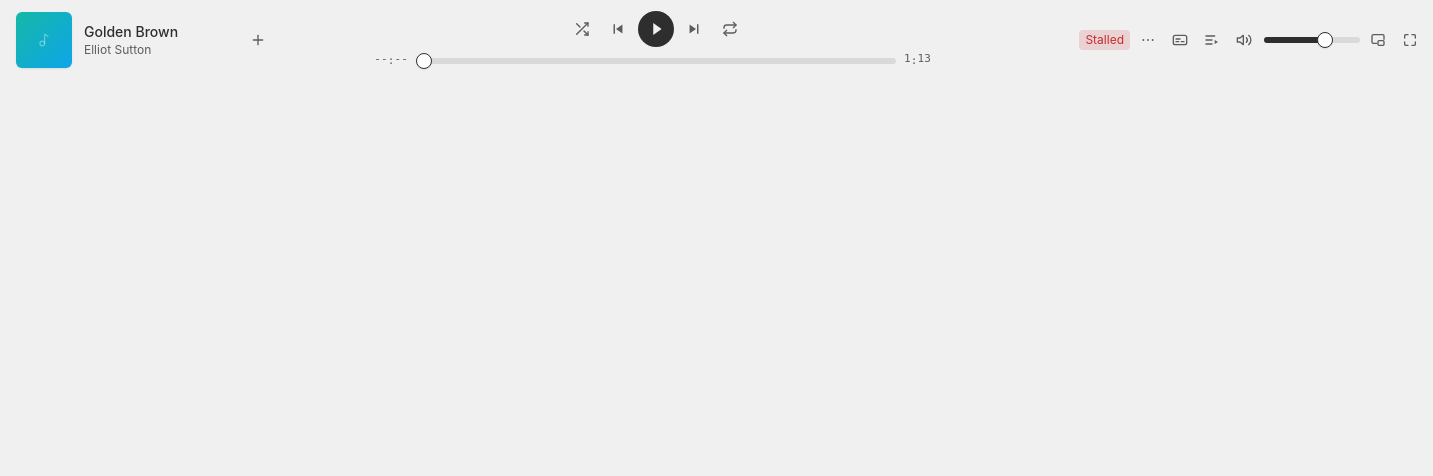
Test: the overflow menu › turns shuffle on by choosing how it should shuffle
Expected: the text "Golden Brown" is shown, [84, 23, 178, 40]
Click the button named "More player controls". click: [1148, 40]
box: [1134, 26, 1162, 54]
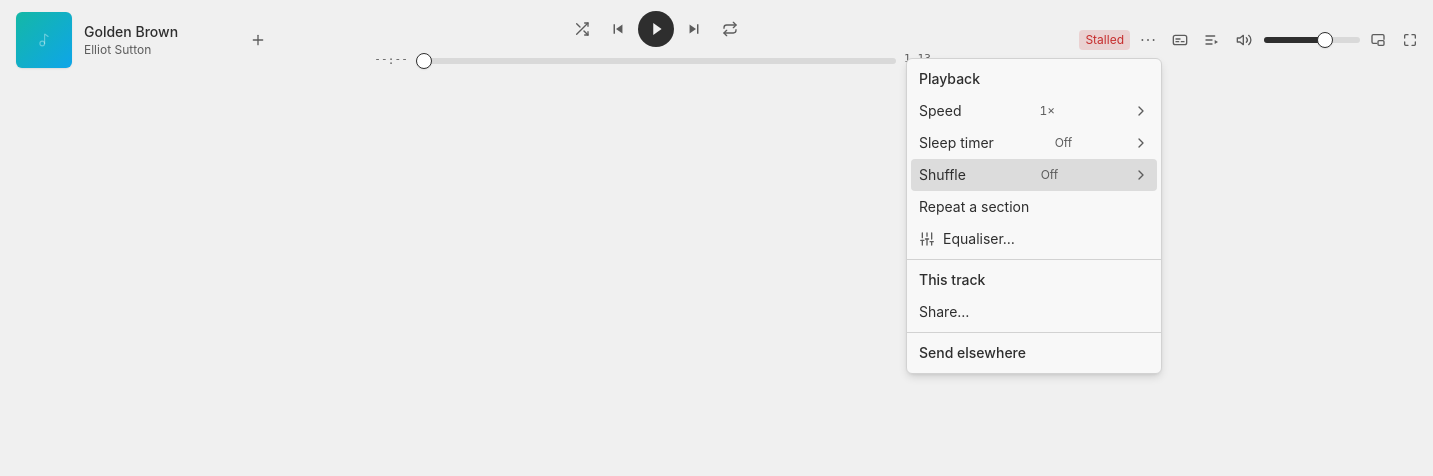
Press Arrowright
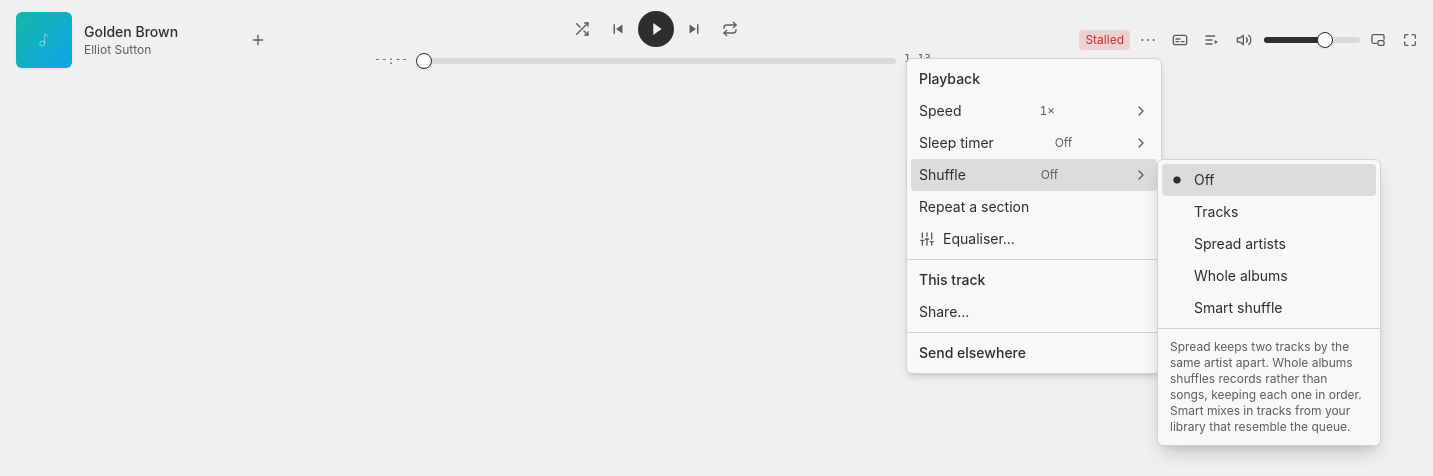
Press Arrowdown Arrowdown
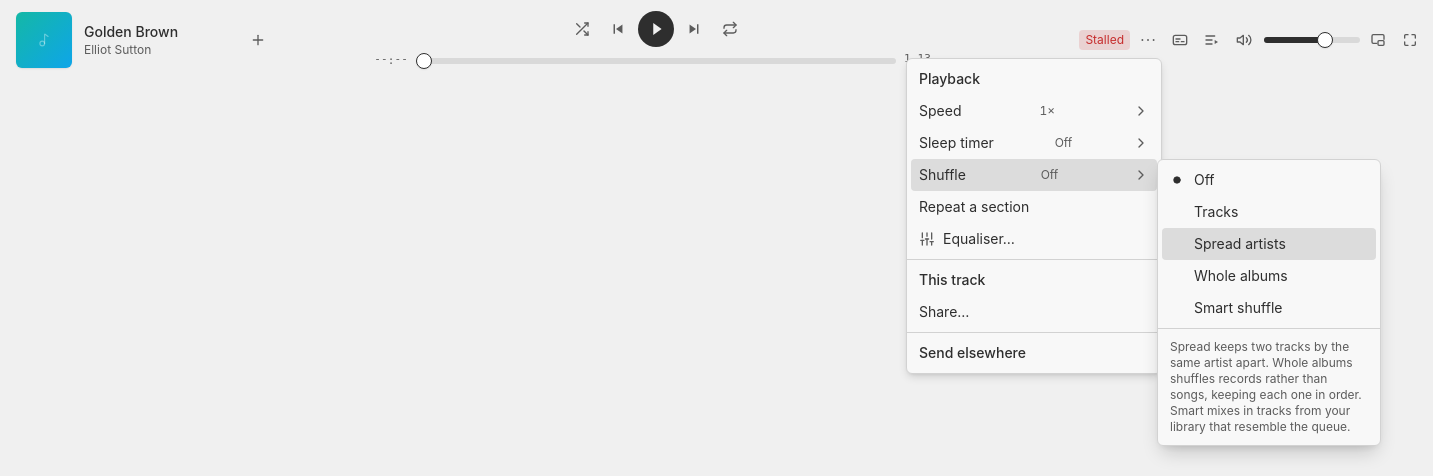
Press Enter
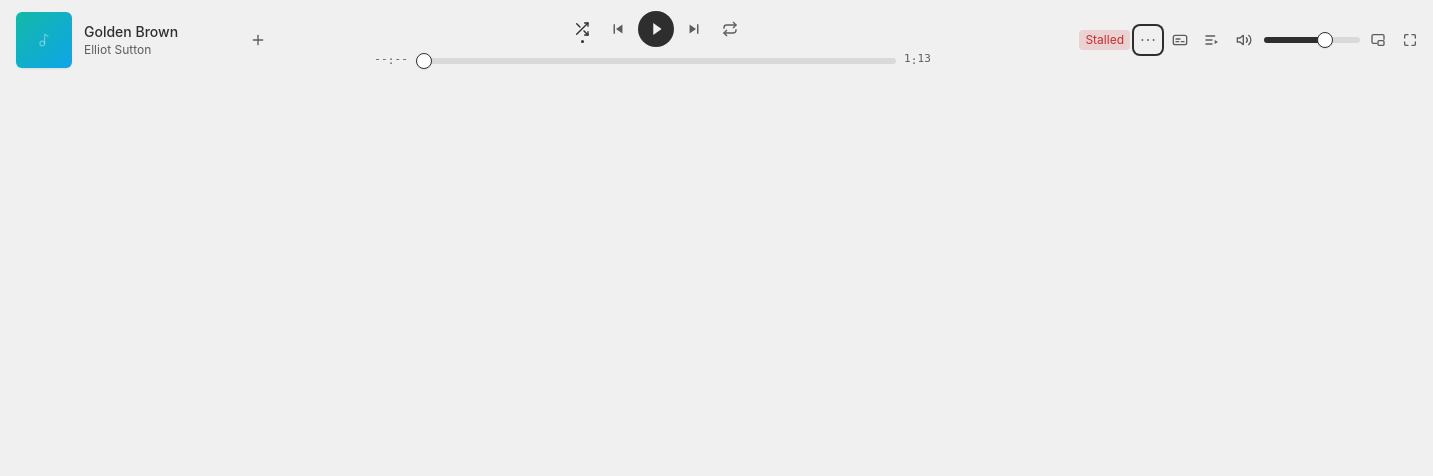
Expected: the text "Golden Brown" is shown, [84, 23, 178, 40]
Expected: the button named "Shuffle on" is shown, [566, 13, 598, 45]
Click the button named "More player controls". click: [1148, 40]
box: [1134, 26, 1162, 54]
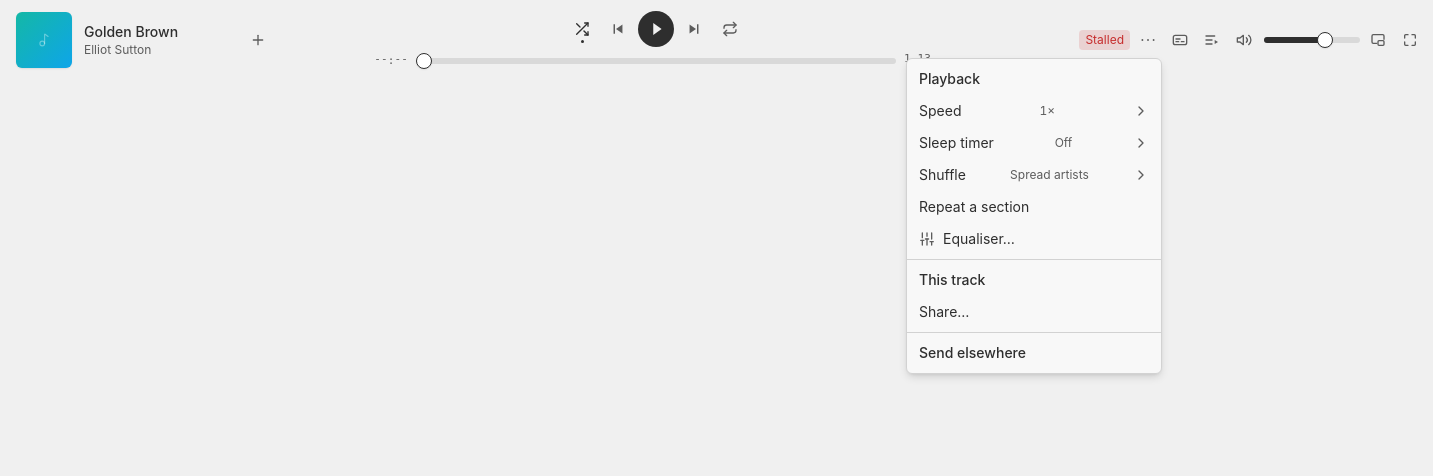
Expected: the menu item "Shuffle Spread artists" is shown, [919, 166, 1149, 183]
